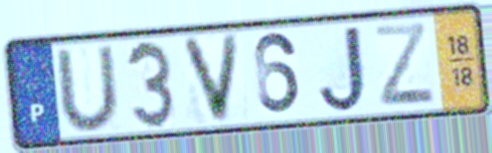3: (124, 37, 175, 132)
6: (252, 29, 304, 120)
J: (316, 22, 370, 116)
U: (52, 42, 124, 134)
V: (177, 31, 244, 127)
Z: (370, 20, 439, 109)
